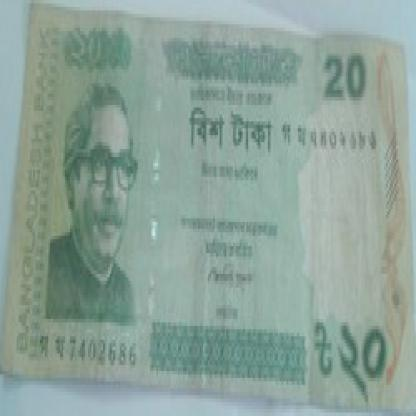Twenty: (313, 319, 398, 399), (60, 14, 140, 97), (188, 107, 278, 156)
